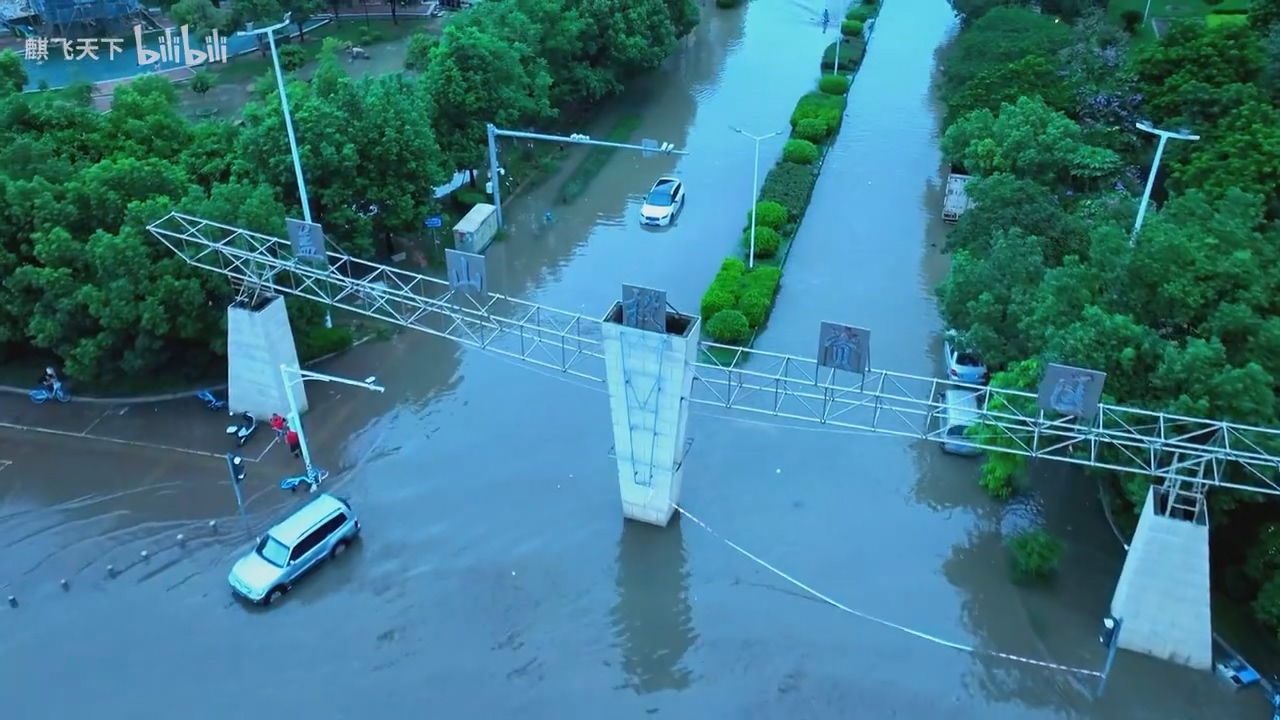puddle: (1, 419, 1064, 714), (567, 46, 941, 318)
